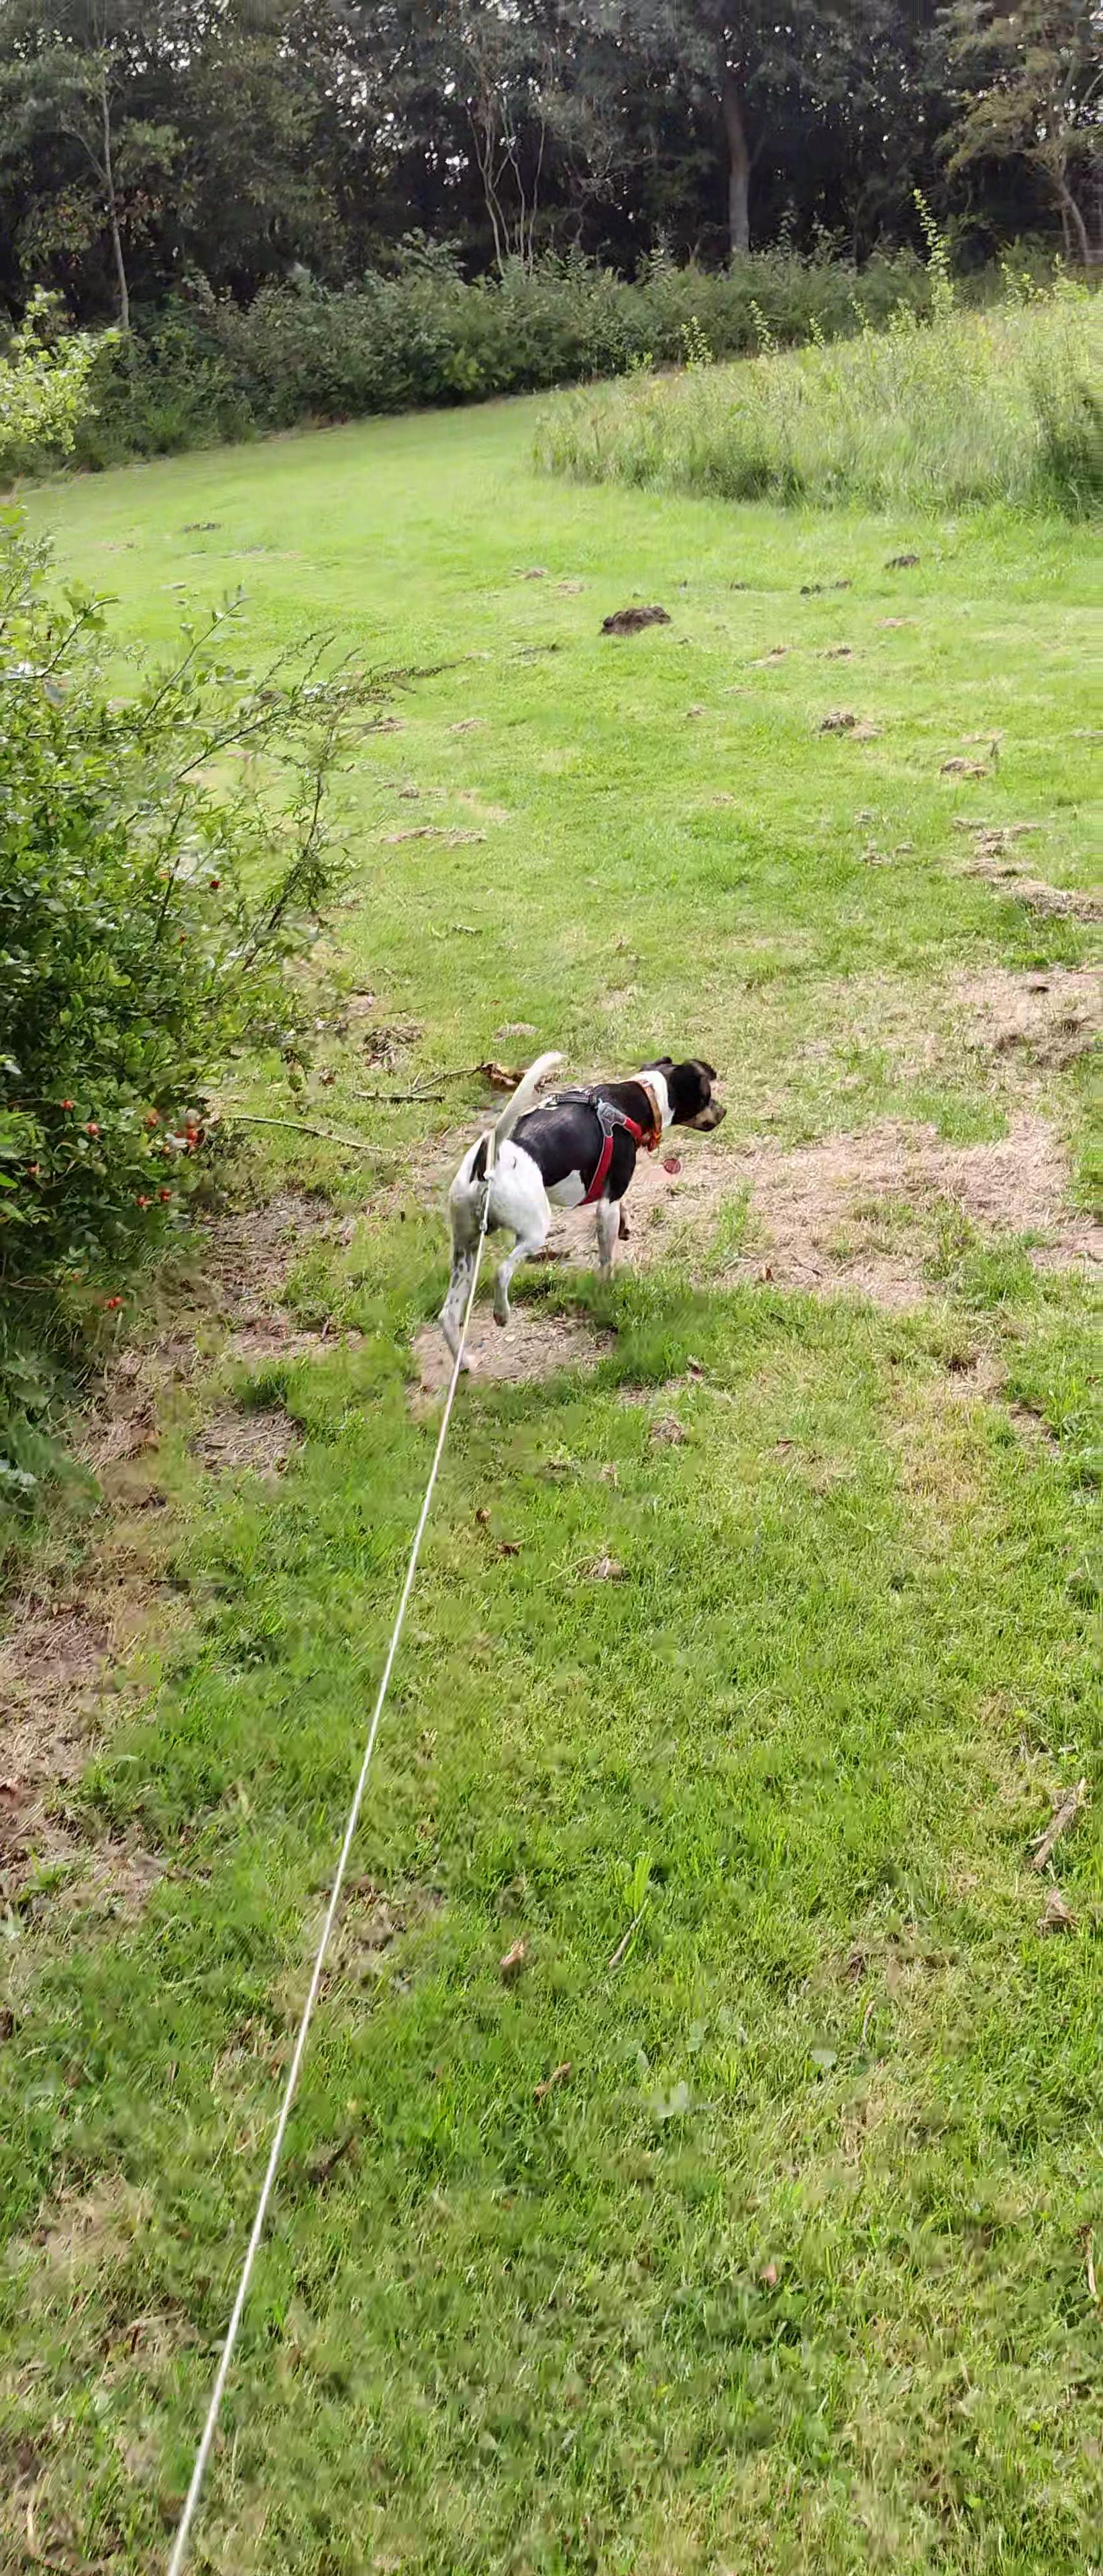Dog: (419, 1033, 745, 1395)
